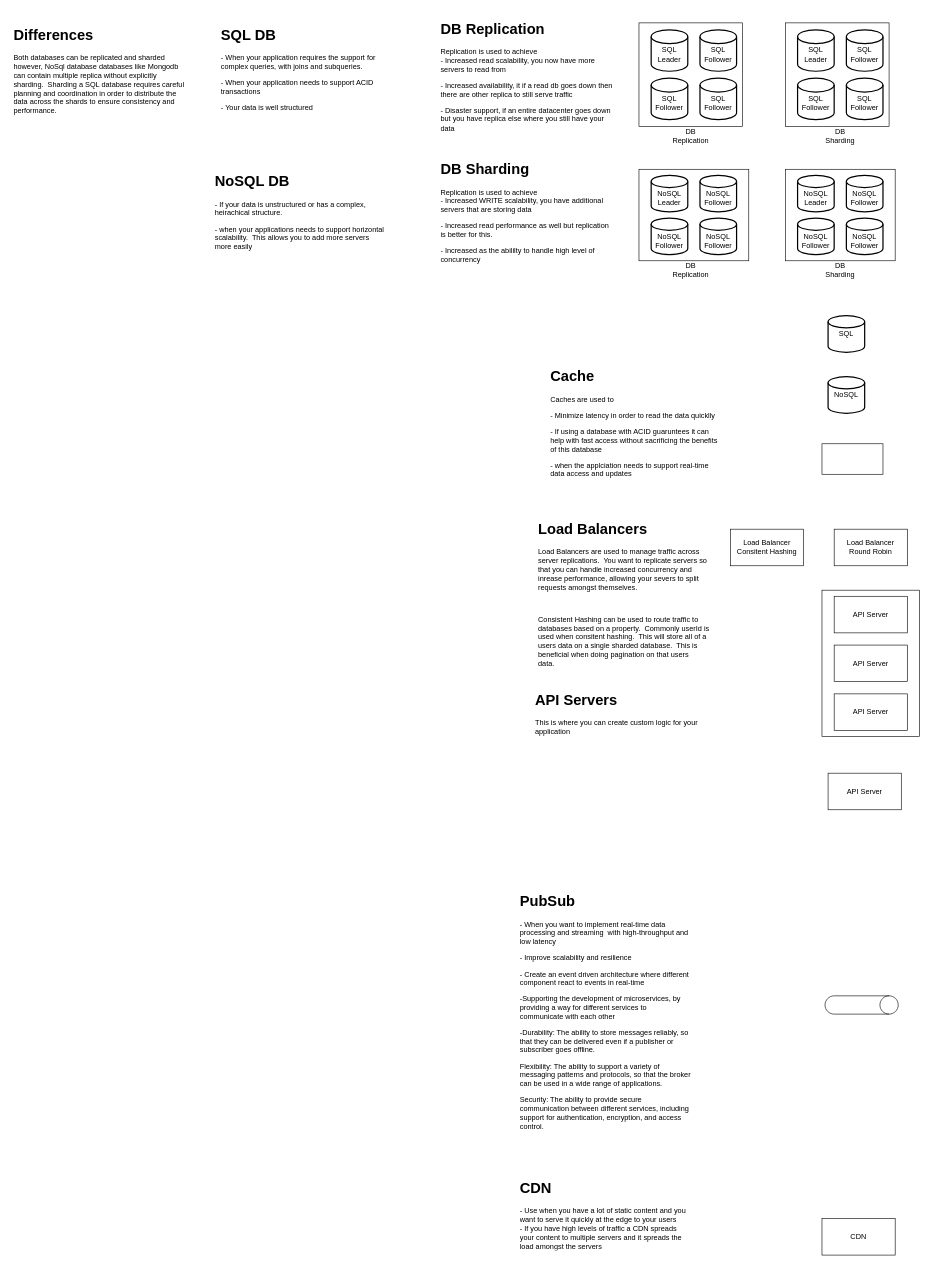
Some shapes in this 930 by 1283 pixel diagram are drawn without their labels. Here are the shapes that lost their labels. From the top down, the box of each, then its label:
(821, 443, 883, 474): Cache
(824, 995, 898, 1014): PubSub
